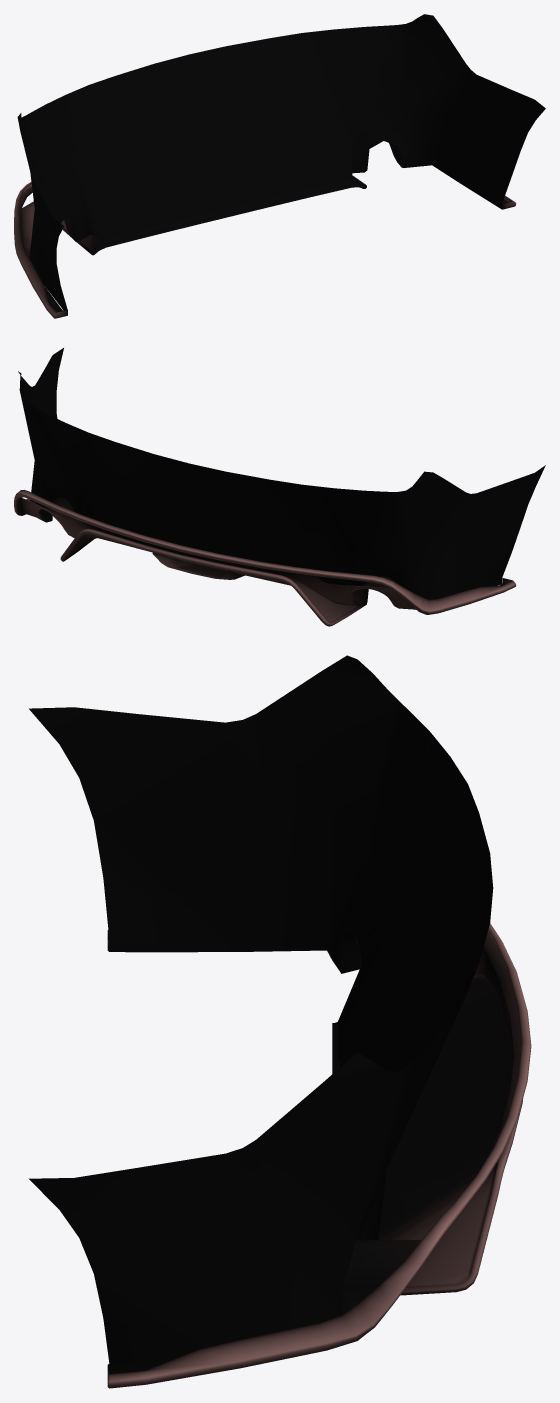
File: Mustang16_RB_04_Trim.fbx
3 renders of one model, top to bottom at view 1: azimuth 30°, elevation 25°; view 2: azimuth 150°, elevation 25°; view 3: azimuth 270°, elevation 25°, orthographic. The views are drawn at different scales.
Parts seen in each view (by area): view 1: Mustang16_RB_04_Trim; view 2: Mustang16_RB_04_Trim; view 3: Mustang16_RB_04_Trim.
Boxes of the visible parts, bbox=[...] form: Mustang16_RB_04_Trim: bbox=[14, 14, 545, 318]; Mustang16_RB_04_Trim: bbox=[14, 348, 545, 626]; Mustang16_RB_04_Trim: bbox=[29, 655, 531, 1388].
Size of the model in its own units: 187 by 57.19 by 84.42.
